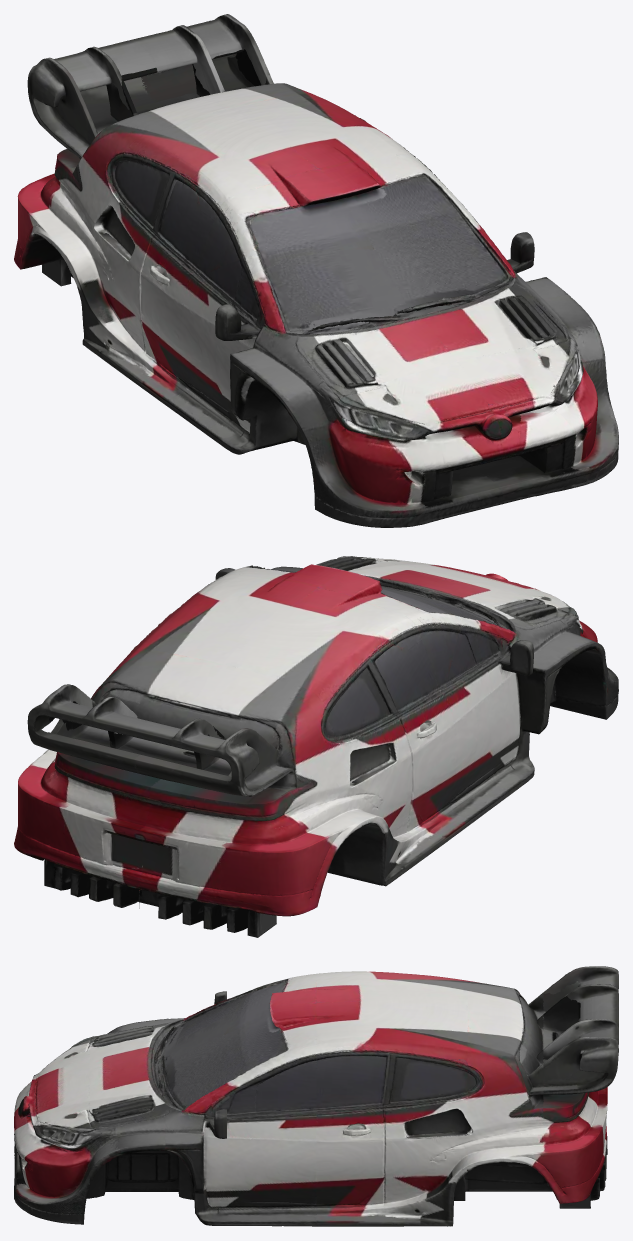
The model's file is car_vanguard_gt_opt.glb.
3 renders of one model, top to bottom at view 1: azimuth 30°, elevation 25°; view 2: azimuth 150°, elevation 25°; view 3: azimuth 270°, elevation 25°, orthographic. The views are drawn at different scales.
Visible parts, largest first — view 1: tmpj49e6hrgobj; view 2: tmpj49e6hrgobj; view 3: tmpj49e6hrgobj.
Part boxes in pixels (x1,y1,x2,y2): tmpj49e6hrgobj: (14,14,618,527); tmpj49e6hrgobj: (14,556,618,937); tmpj49e6hrgobj: (14,966,618,1226).
Bounding box in the file's own units: 0.4925 × 0.3012 × 1.
Materials: 1 (1 with a texture image).
